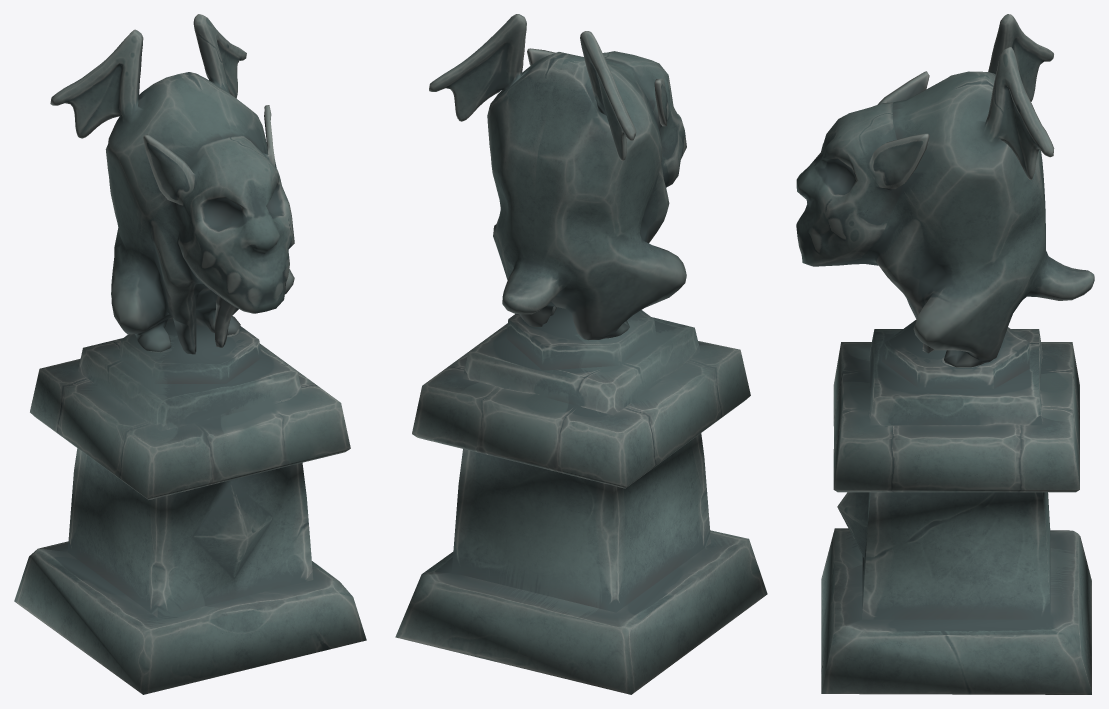
The model's file is Gargoyle statue intera LP.fbx.
3 renders of one model, left to right at view 1: azimuth 30°, elevation 25°; view 2: azimuth 150°, elevation 25°; view 3: azimuth 270°, elevation 25°, orthographic. The views are drawn at different scales.
Parts seen in each view (by area): view 1: Gargoyle intera LP; view 2: Gargoyle intera LP; view 3: Gargoyle intera LP.
Part boxes in pixels (x1,y1,x2,y2): Gargoyle intera LP: (14,14,366,694); Gargoyle intera LP: (395,14,767,694); Gargoyle intera LP: (796,14,1094,694).
Size of the model in its own units: 657 by 1629 by 725.
